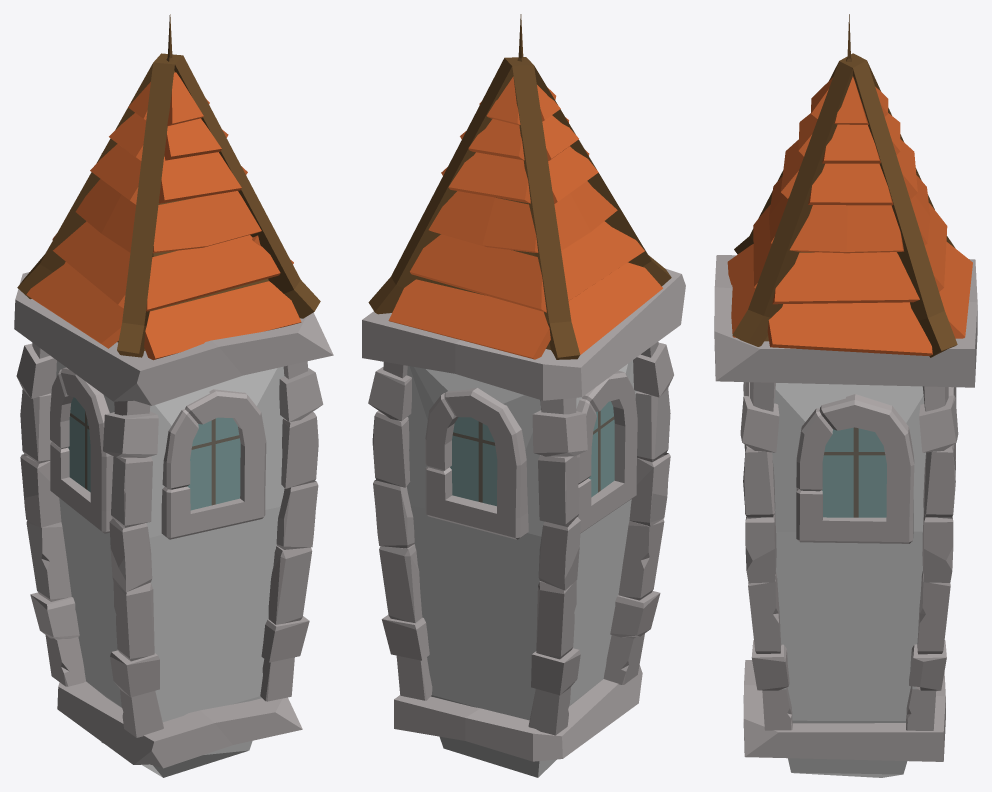
File: Turret_Square_Bldg_02.glb
3 renders of one model, left to right at view 1: azimuth 30°, elevation 25°; view 2: azimuth 150°, elevation 25°; view 3: azimuth 270°, elevation 25°, orthographic.
Visible parts, largest first — view 1: Turret_Square_Bldg_02; view 2: Turret_Square_Bldg_02; view 3: Turret_Square_Bldg_02.
Boxes of the visible parts, x1,y1,x2,y2 form: Turret_Square_Bldg_02: (14,14,333,777); Turret_Square_Bldg_02: (362,14,685,777); Turret_Square_Bldg_02: (714,14,977,777).
Size of the model in its own units: 5.76 by 18.96 by 6.03.
Materials: 1 (1 with a texture image).
